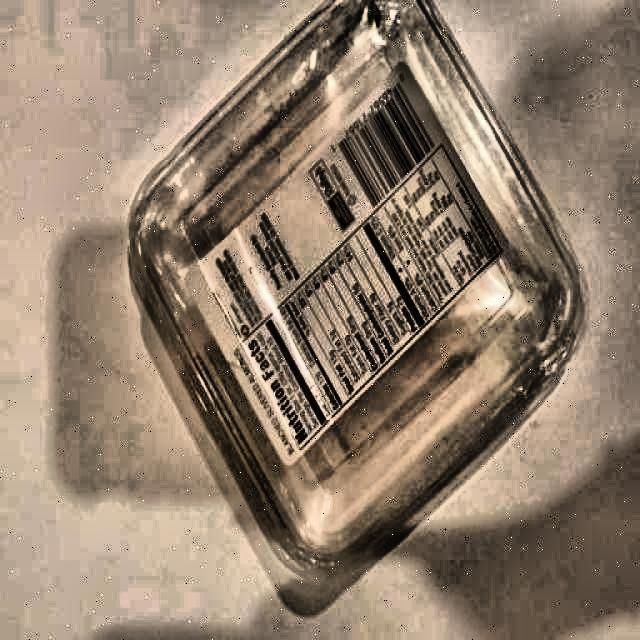plastic: (126, 0, 583, 621)
